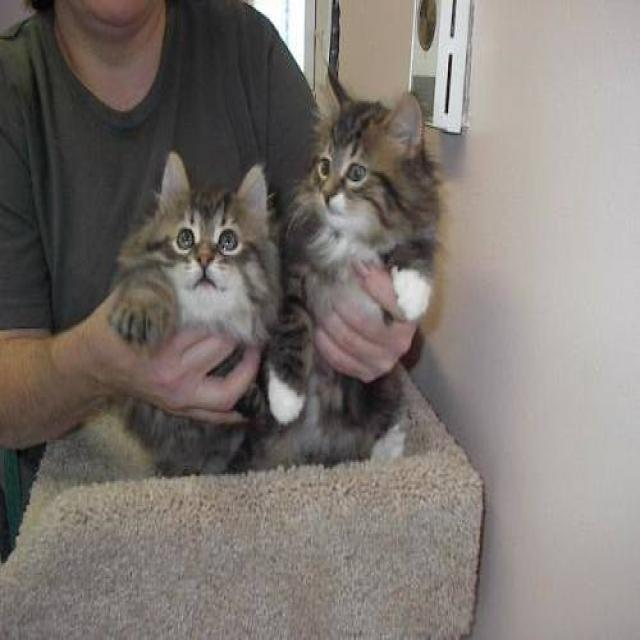cat: (248, 64, 446, 472), (105, 149, 287, 476)
